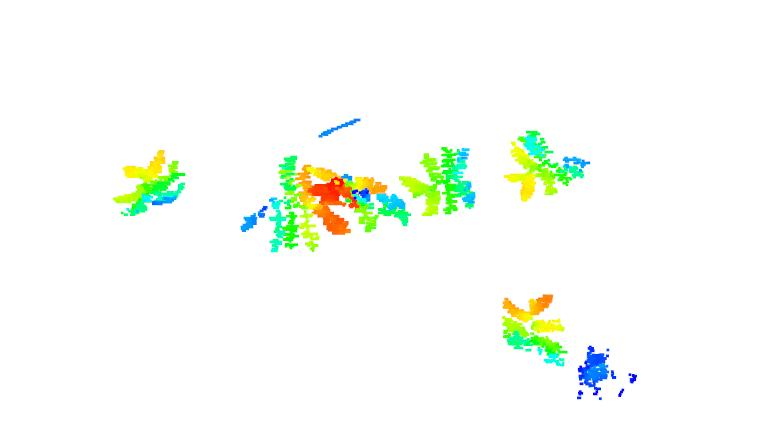chickpea: (237, 155, 347, 252), (498, 128, 591, 204), (312, 164, 413, 229), (111, 150, 191, 223), (500, 288, 572, 369), (400, 143, 475, 218)
